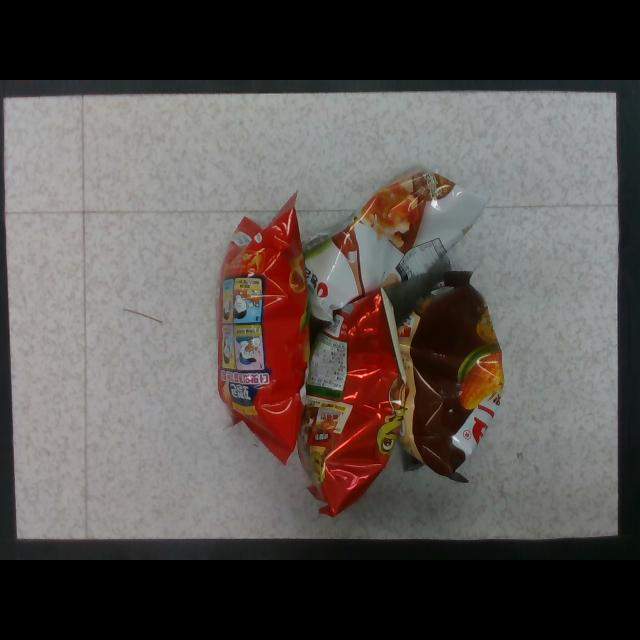bongji: (305, 171, 490, 320), (218, 193, 309, 464), (299, 290, 405, 516), (399, 271, 505, 482)
